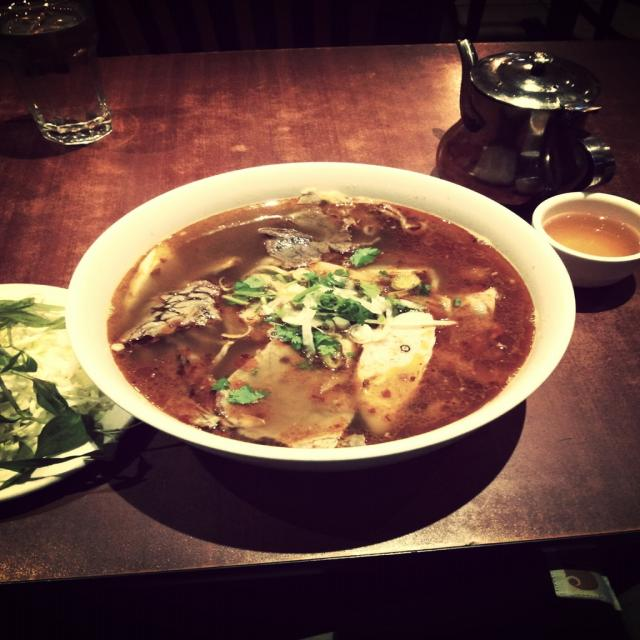Tea: (544, 213, 638, 259)
